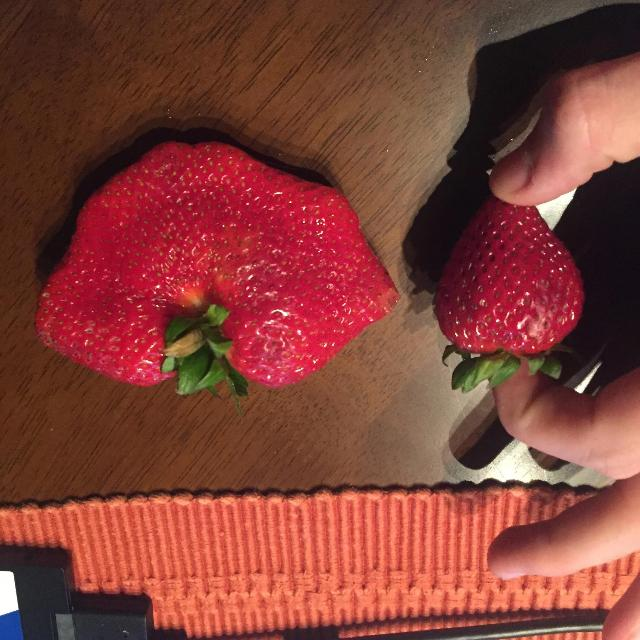Strawberries: (438, 206, 582, 370)
